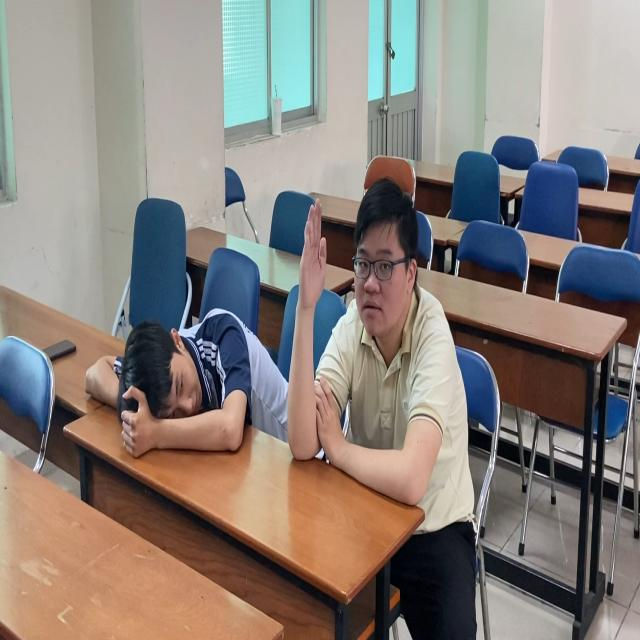raise_hand: (285, 179, 459, 513)
sleep: (82, 287, 285, 492)
